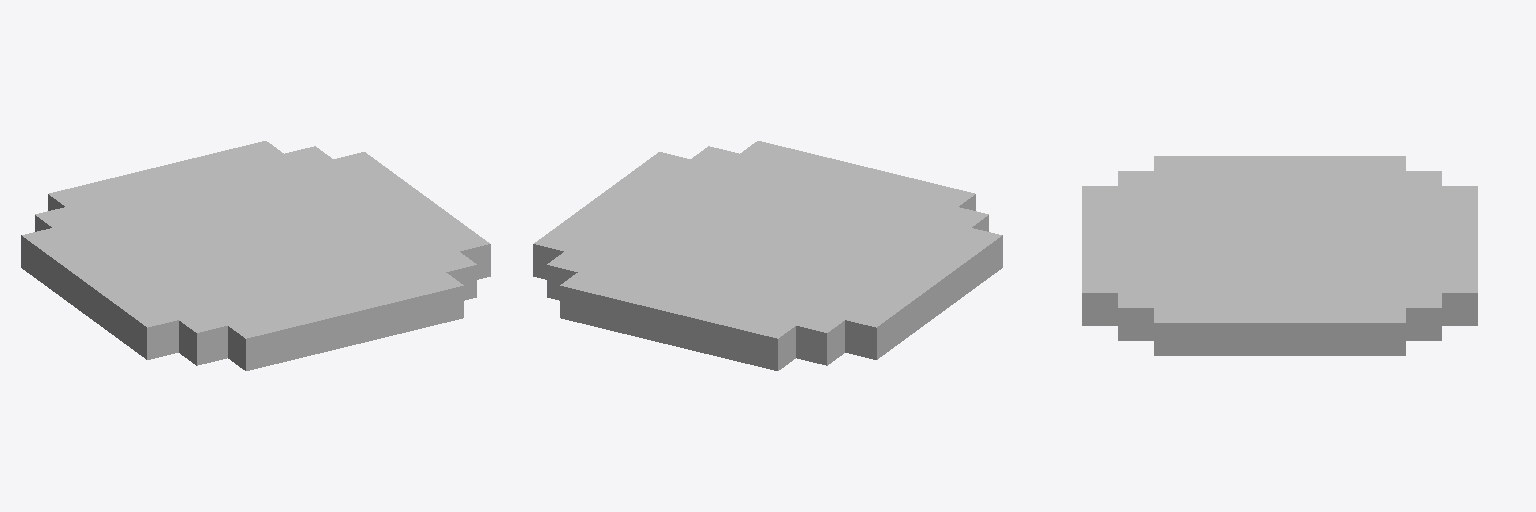
Rendered from patty_uncooked.obj.
3 renders of one model, left to right at view 1: azimuth 30°, elevation 25°; view 2: azimuth 150°, elevation 25°; view 3: azimuth 270°, elevation 25°, orthographic.
Parts seen in each view (by area): view 1: object 1; view 2: object 1; view 3: object 1.
Part boxes in pixels (left/top/right/bottom): object 1: left=21, top=141, right=490, bottom=370; object 1: left=533, top=141, right=1002, bottom=370; object 1: left=1082, top=156, right=1477, bottom=355.
Bounding box in the file's own units: 1.1 × 0.1 × 1.1.